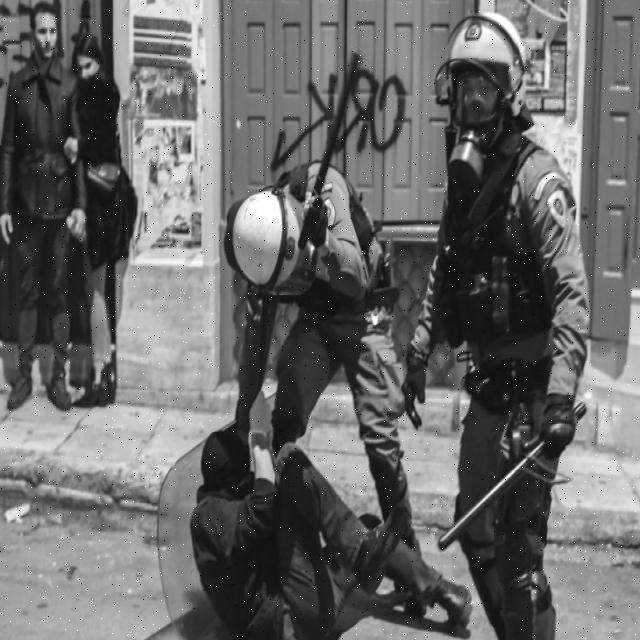police: (231, 105, 410, 640), (419, 12, 569, 640)
